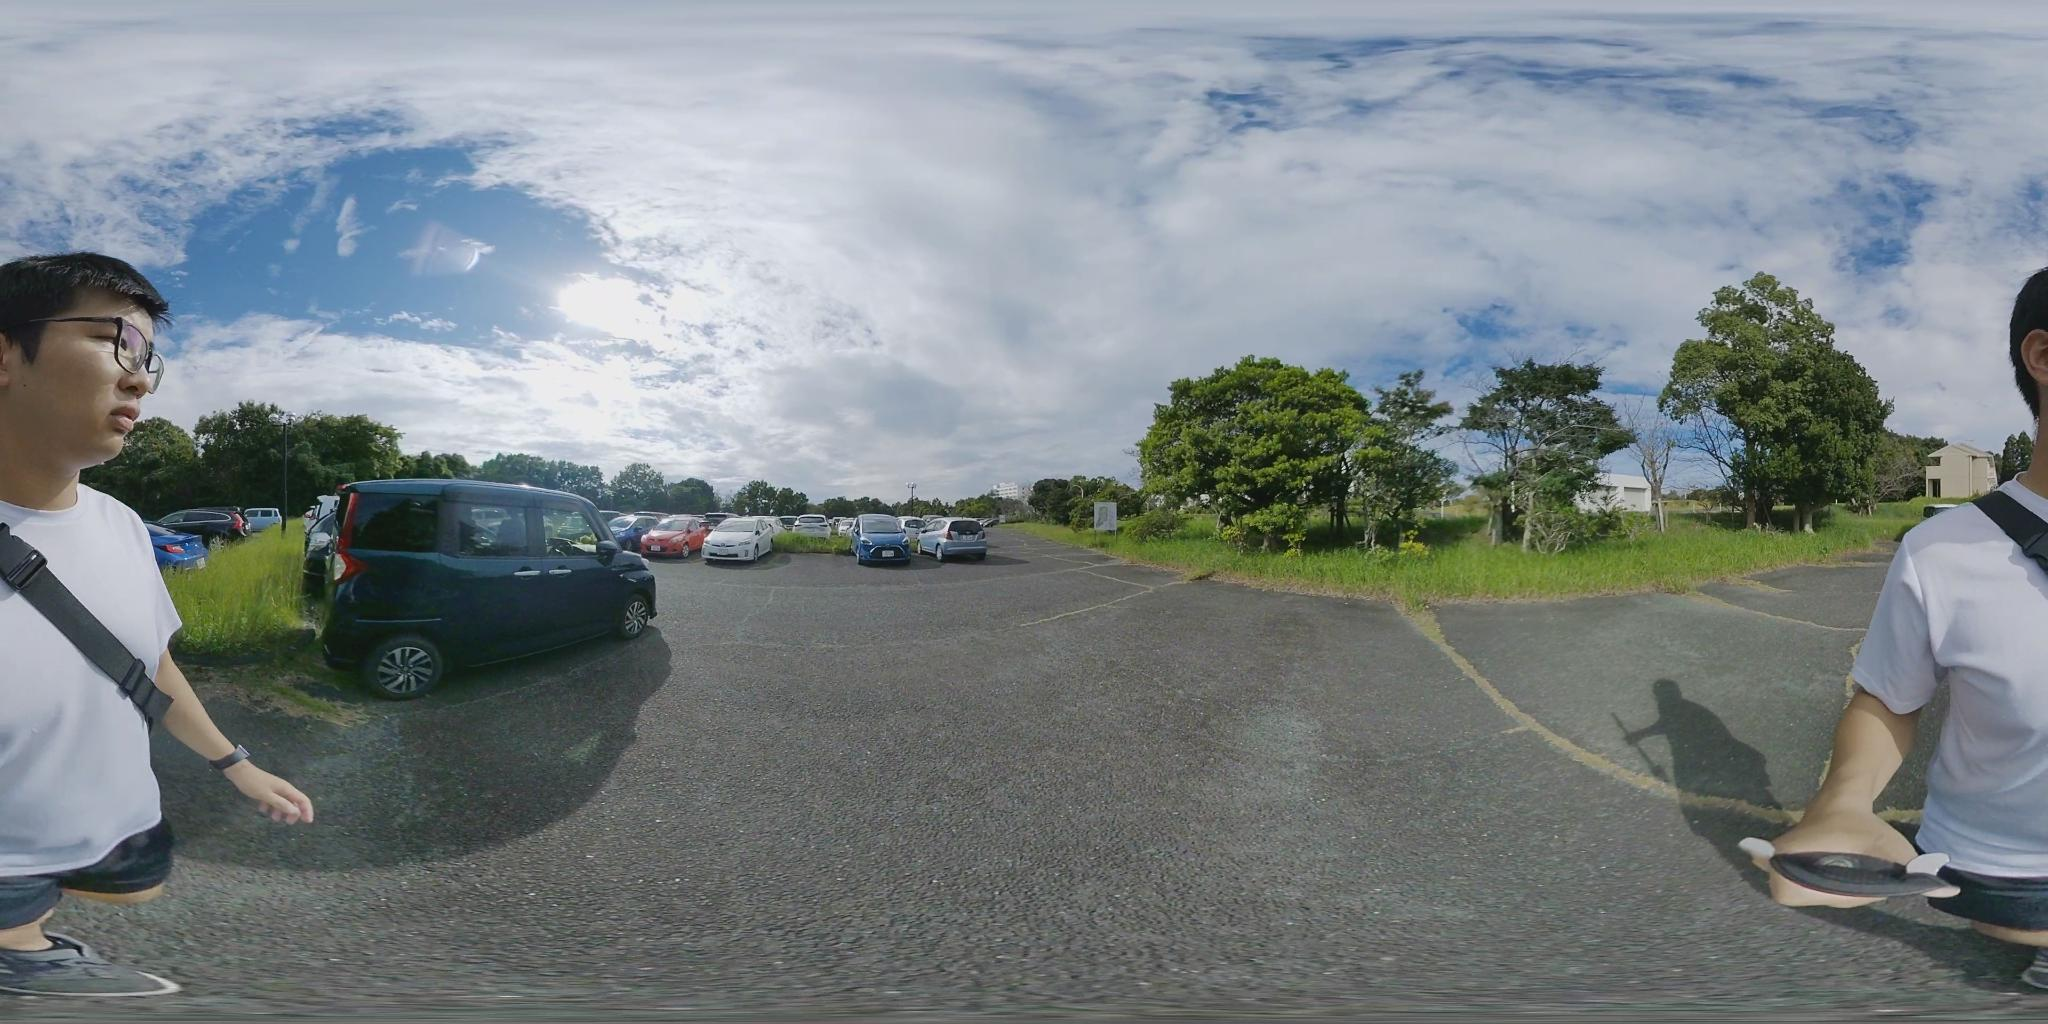car: (306, 478, 665, 700), (697, 516, 778, 566), (854, 516, 933, 567), (917, 519, 986, 559), (636, 517, 705, 556), (162, 507, 248, 536), (152, 529, 209, 569)
